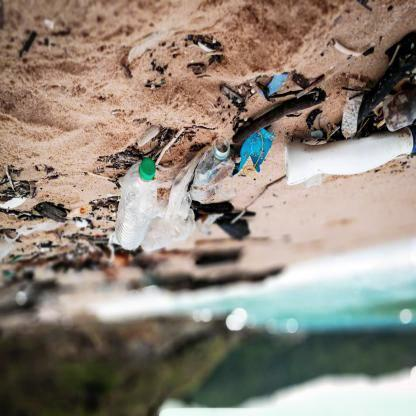Plastic: (283, 129, 416, 188), (116, 154, 159, 252), (187, 139, 232, 207)
